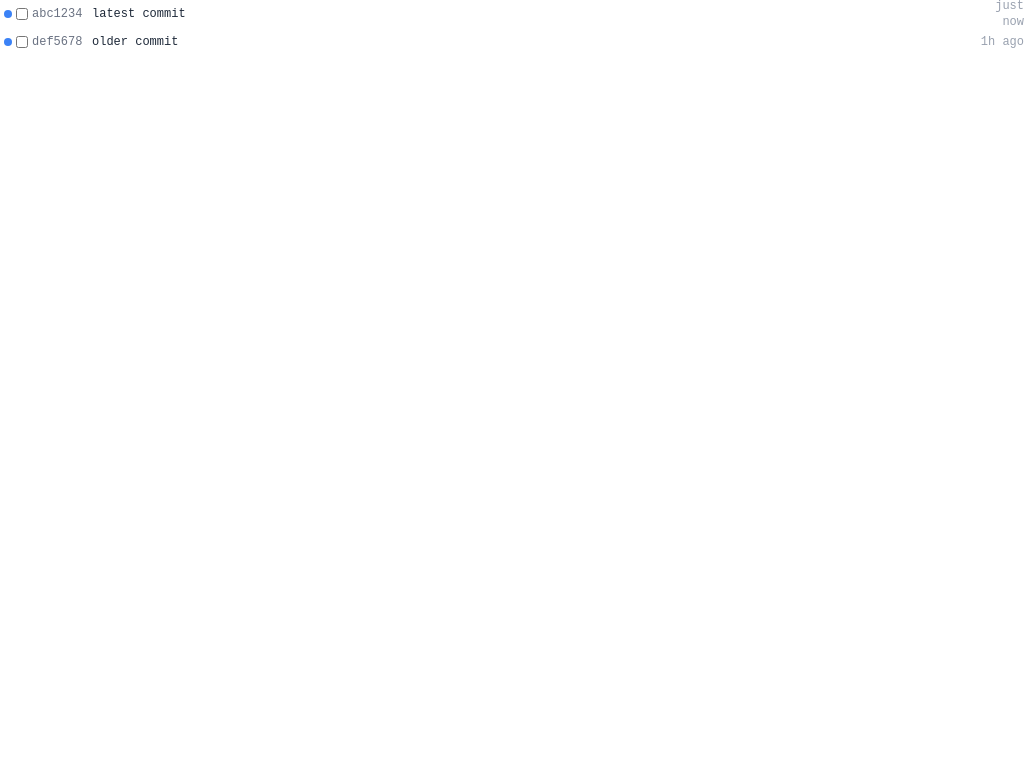
Test case: CommitLog commit row context menu › asks for confirmation before cherry-picking
Right-click the text "latest commit" at (139, 14), box [16, 0, 1023, 28]
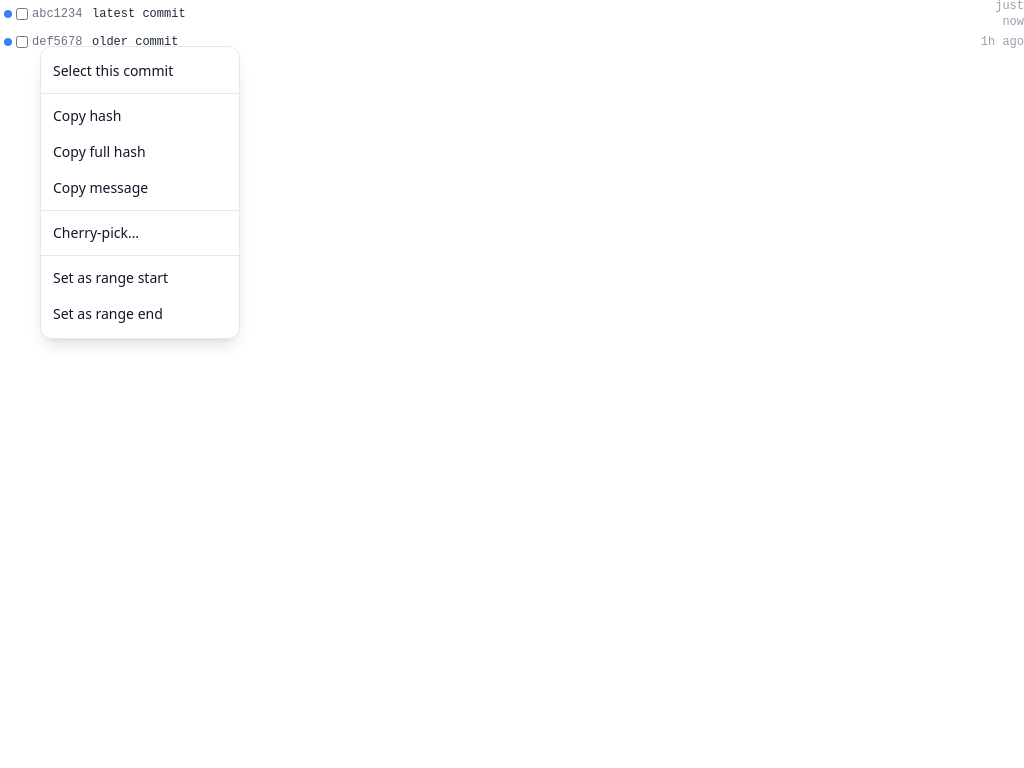
Click the menu item "Cherry-pick…". click: (140, 233)
box: [41, 215, 239, 251]
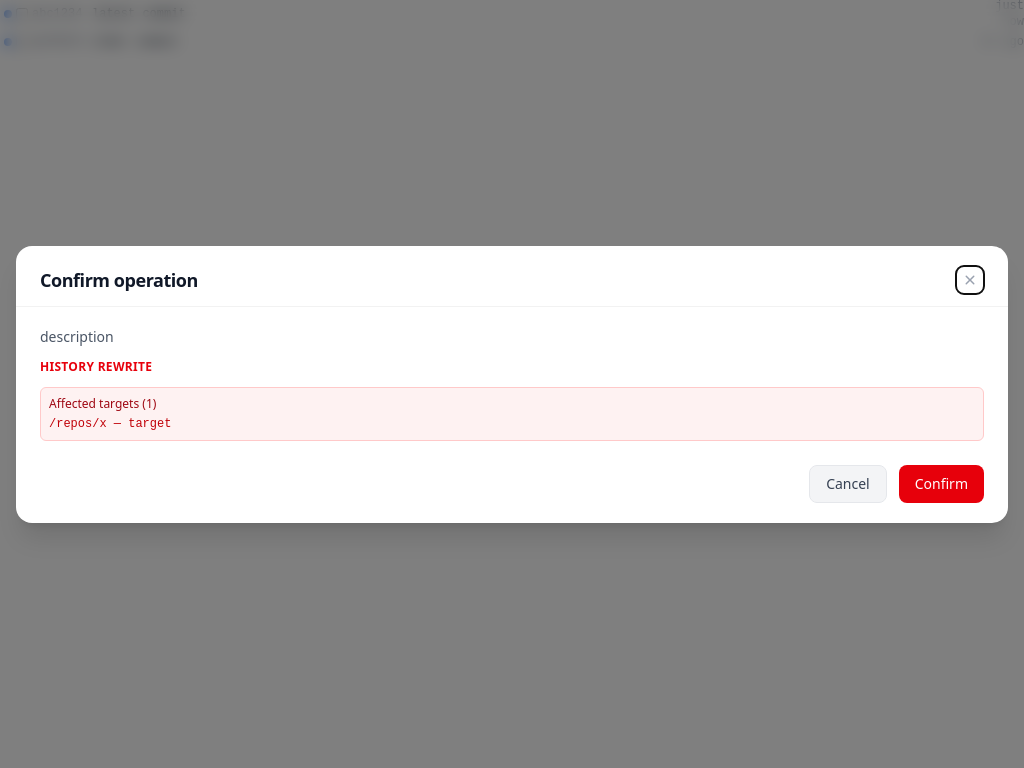
Now the button "Confirm" is shown, box [899, 464, 984, 502]
